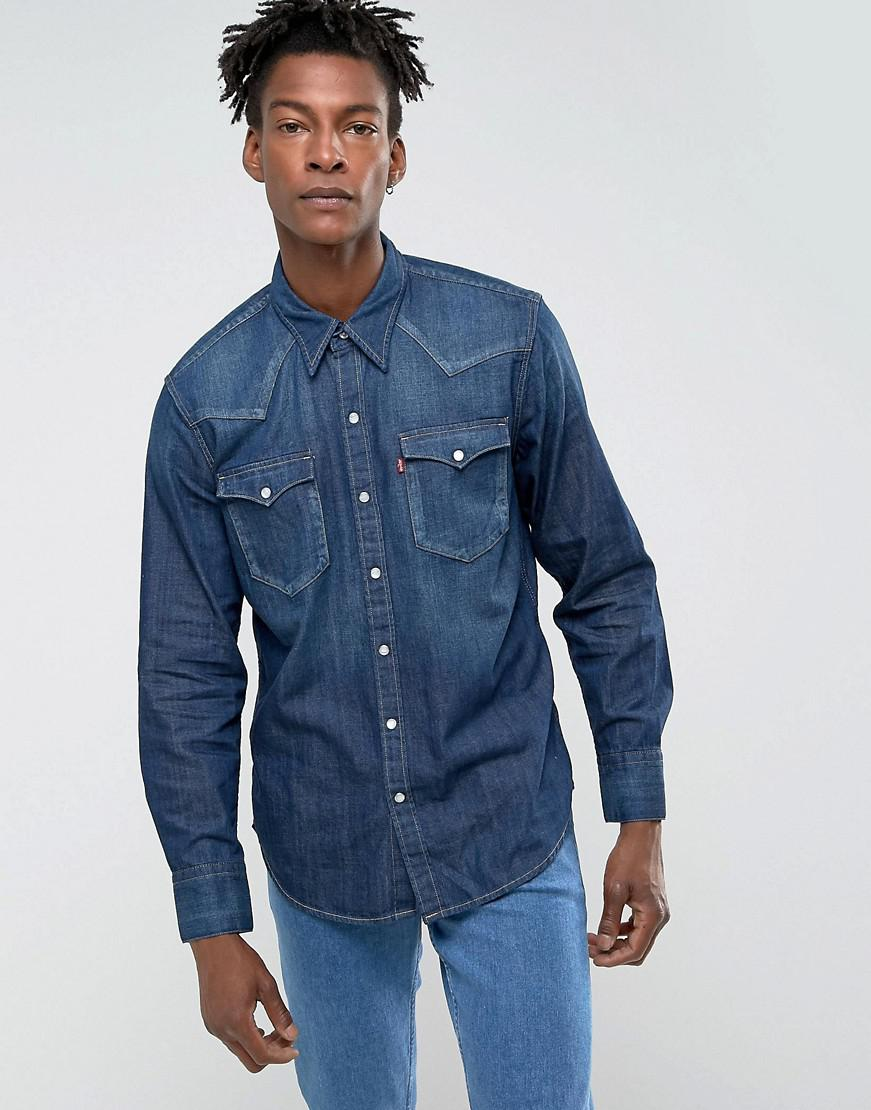teeshirt: (117, 251, 696, 918)
